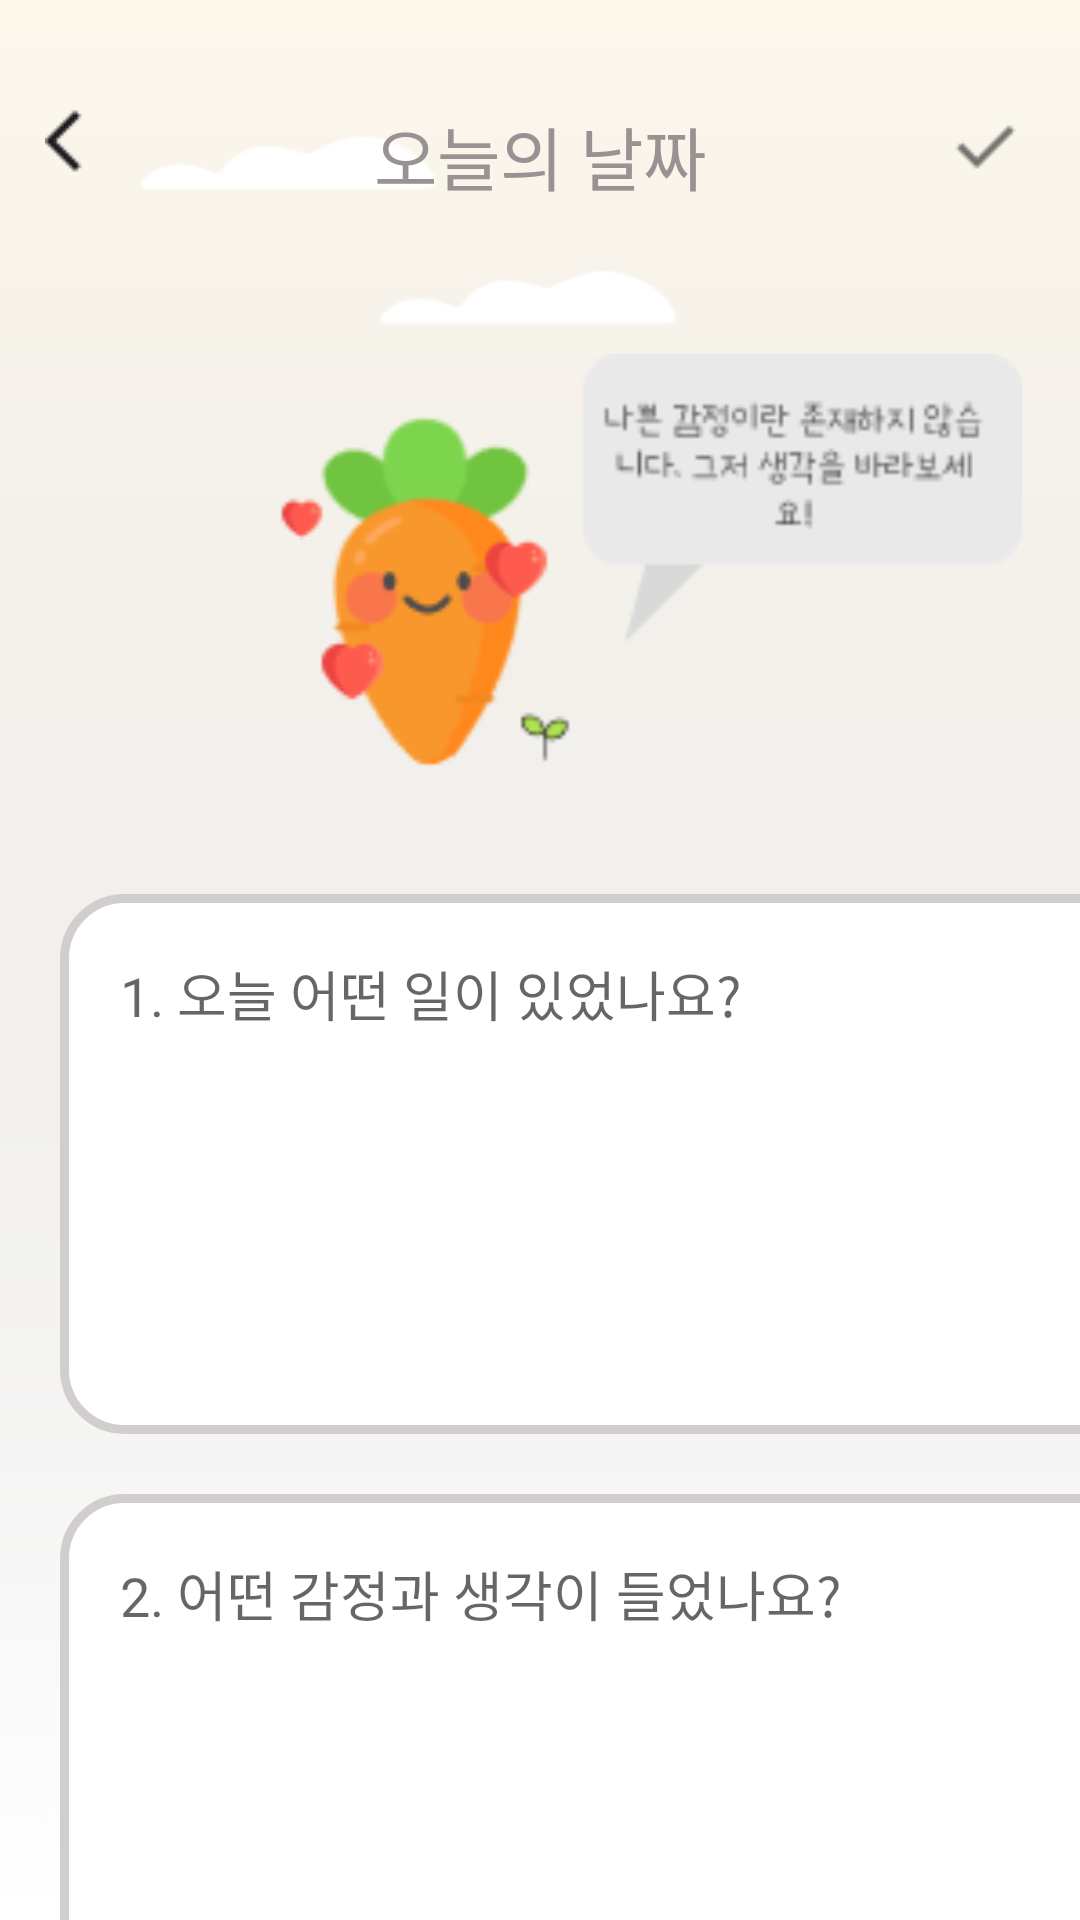

Where icons sit on this 1080 × 1920 app screen, as region(x1, y1, x2, y2):
arrow back: region(45, 110, 82, 172)
check: region(956, 125, 1015, 169)
